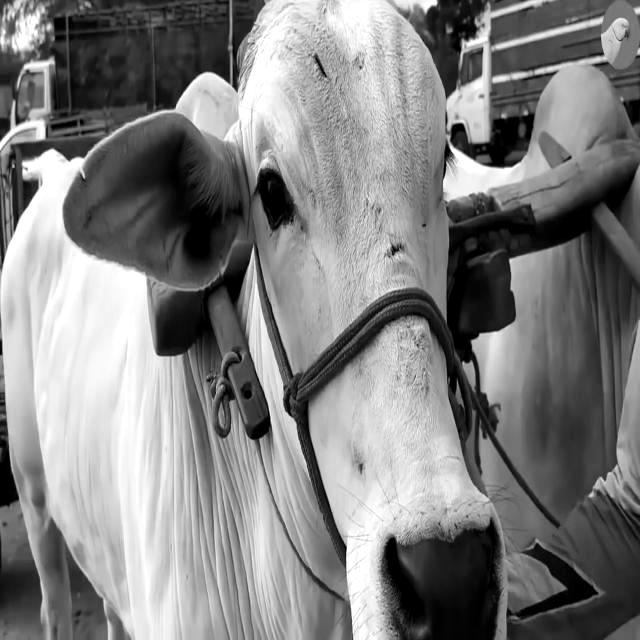COW: (1, 0, 505, 640)
